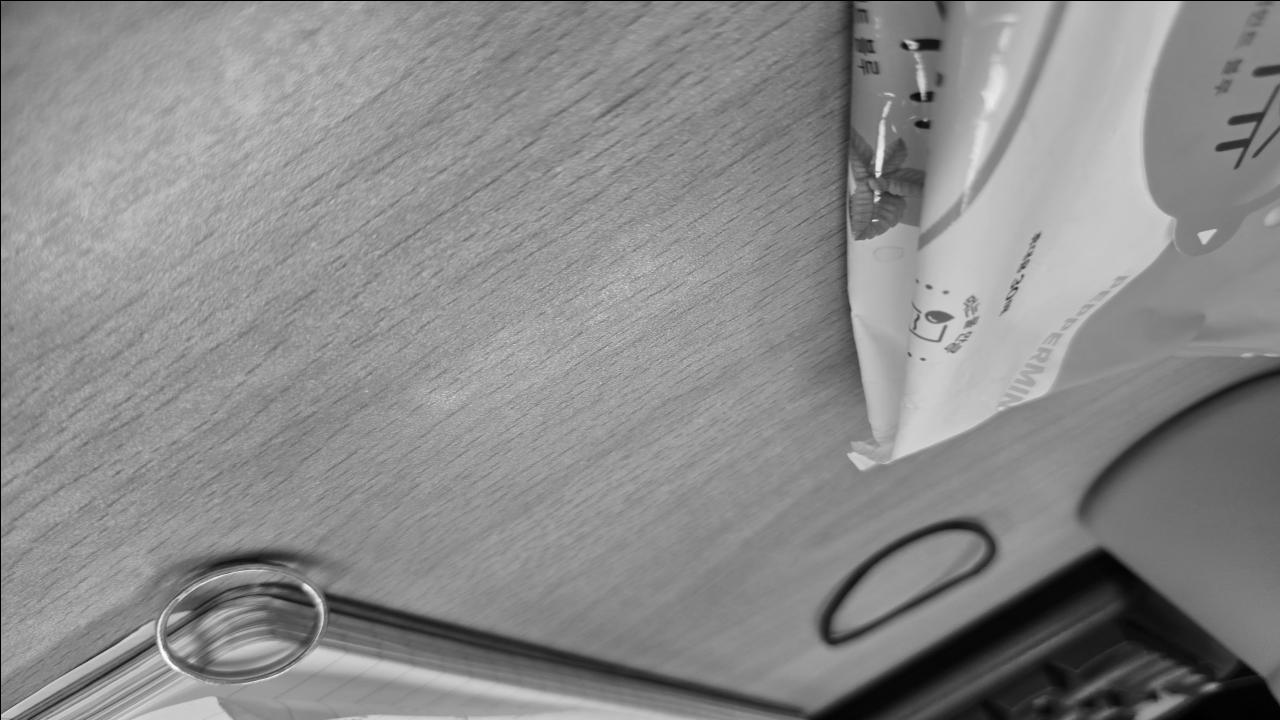ring: (156, 558, 325, 686)
